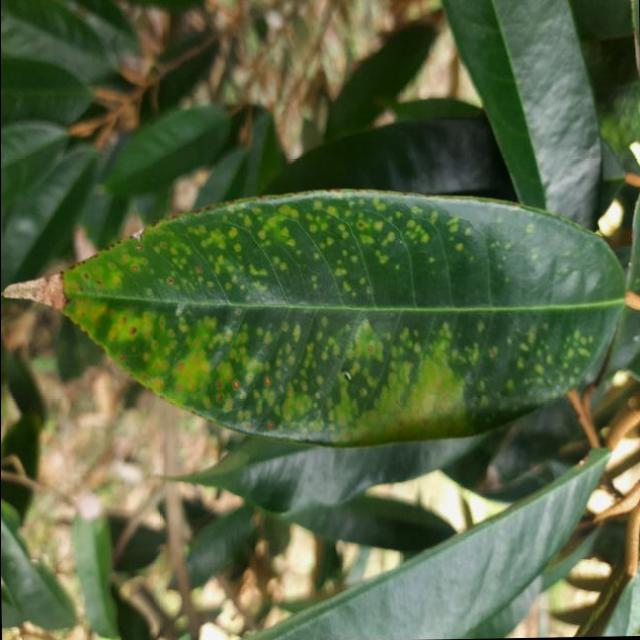Leaf Spot: (0, 176, 638, 458)
